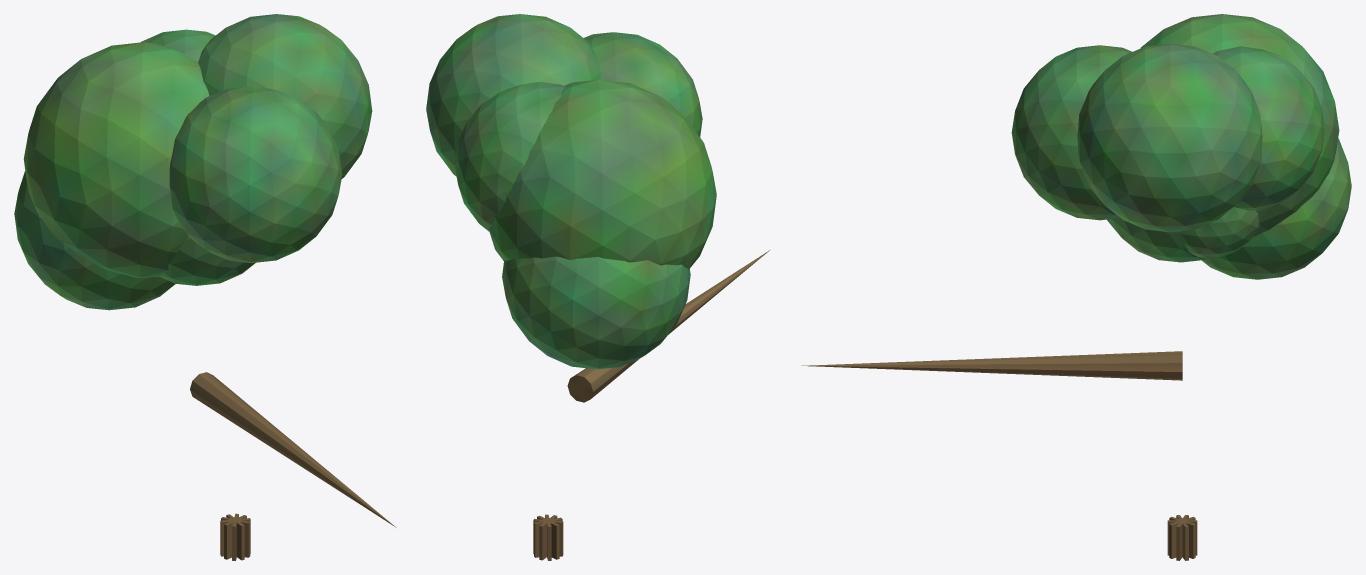
The model's file is tree_6.glb.
3 renders of one model, left to right at view 1: azimuth 30°, elevation 25°; view 2: azimuth 150°, elevation 25°; view 3: azimuth 270°, elevation 25°, orthographic.
Visible parts, largest first — view 1: world; view 2: world; view 3: world.
Boxes of the visible parts, <box> form: world: <box>14,14,396,560</box>; world: <box>426,14,770,560</box>; world: <box>801,14,1351,560</box>.
Bounding box in the file's own units: 5.35 × 9.22 × 8.88.
